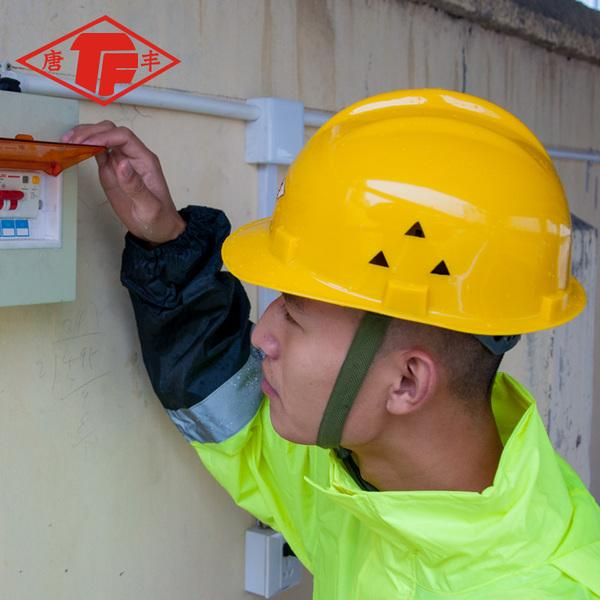helmet: (224, 86, 596, 345)
